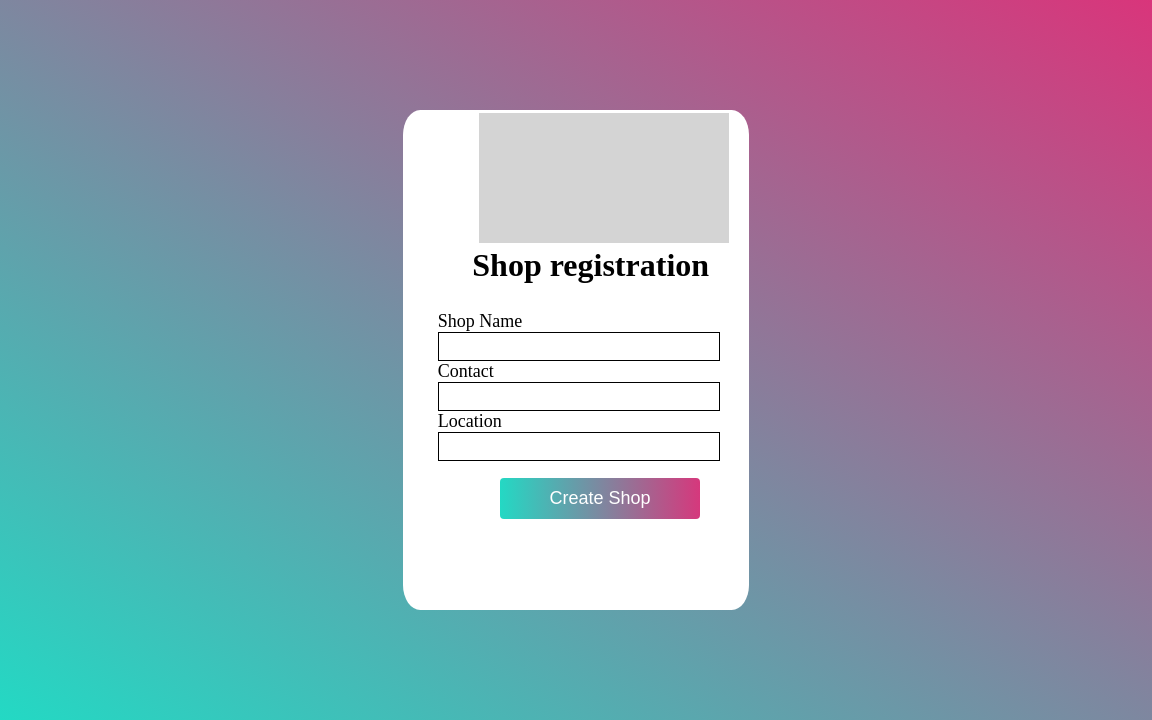
SellerForm Component › registers the shop and displays success message when all inputs are valid
Step 1. Type "Test Shop" into the field labelled "Shop Name" → {"x": 579, "y": 346}, box [438,332,720,361]
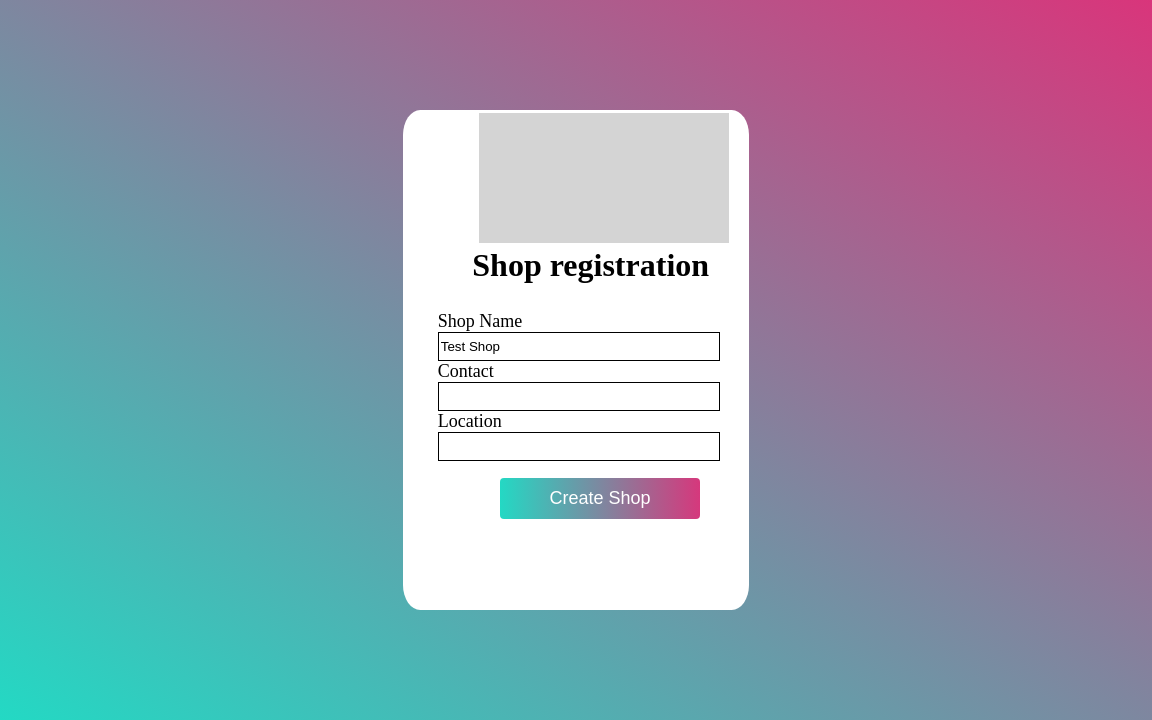
Step 2. Type "1234567890" into the field labelled "Contact" → {"x": 579, "y": 396}, box [438,382,720,411]
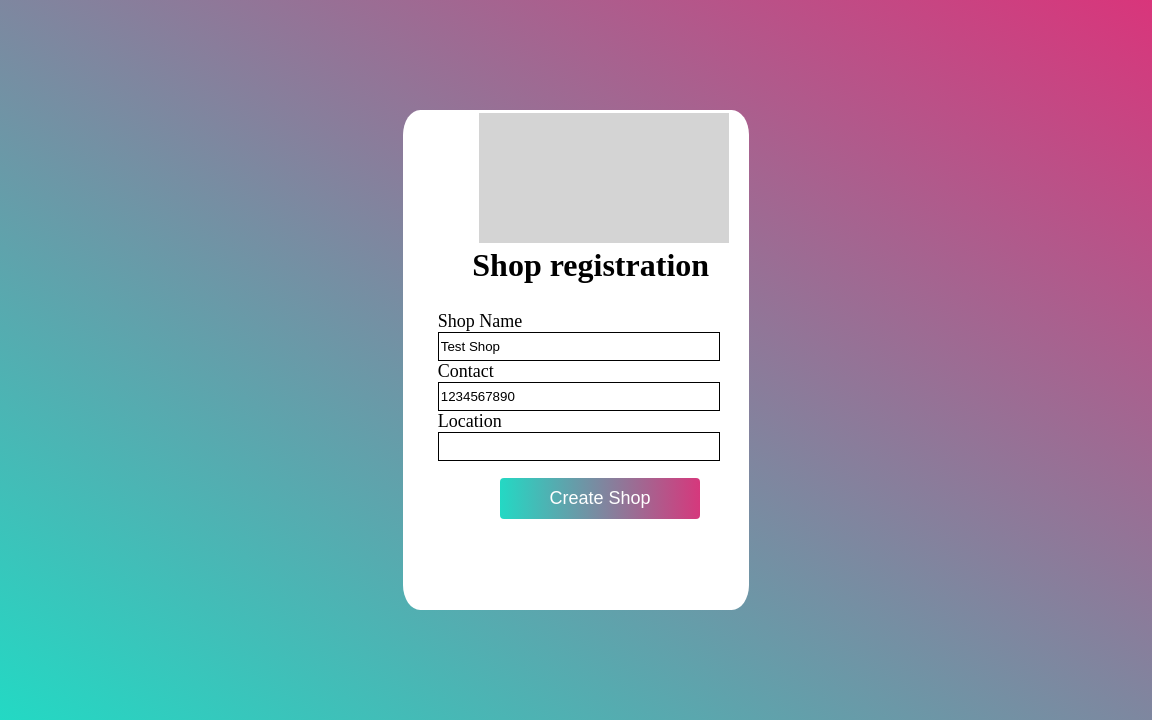
Step 3. Type "Test Location" into the field labelled "Location" → {"x": 579, "y": 446}, box [438,432,720,461]
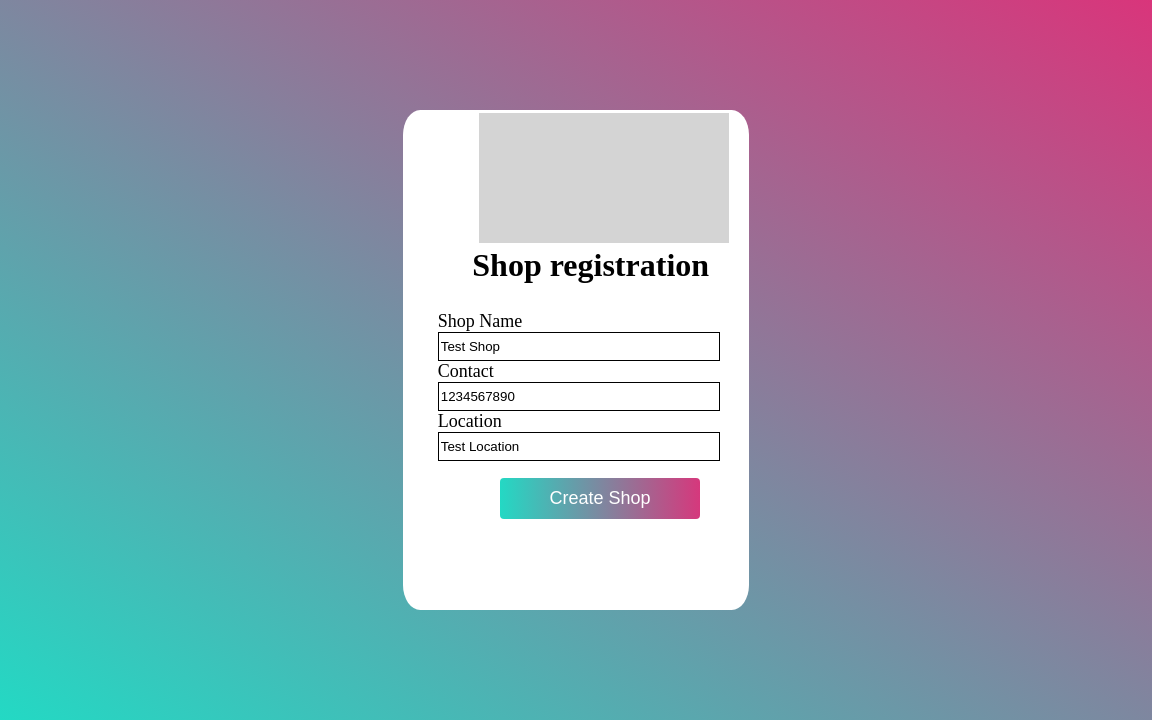
Step 4. Click the button with test id "signUpButton" → {"x": 600, "y": 499}, box [500,478,700,519]
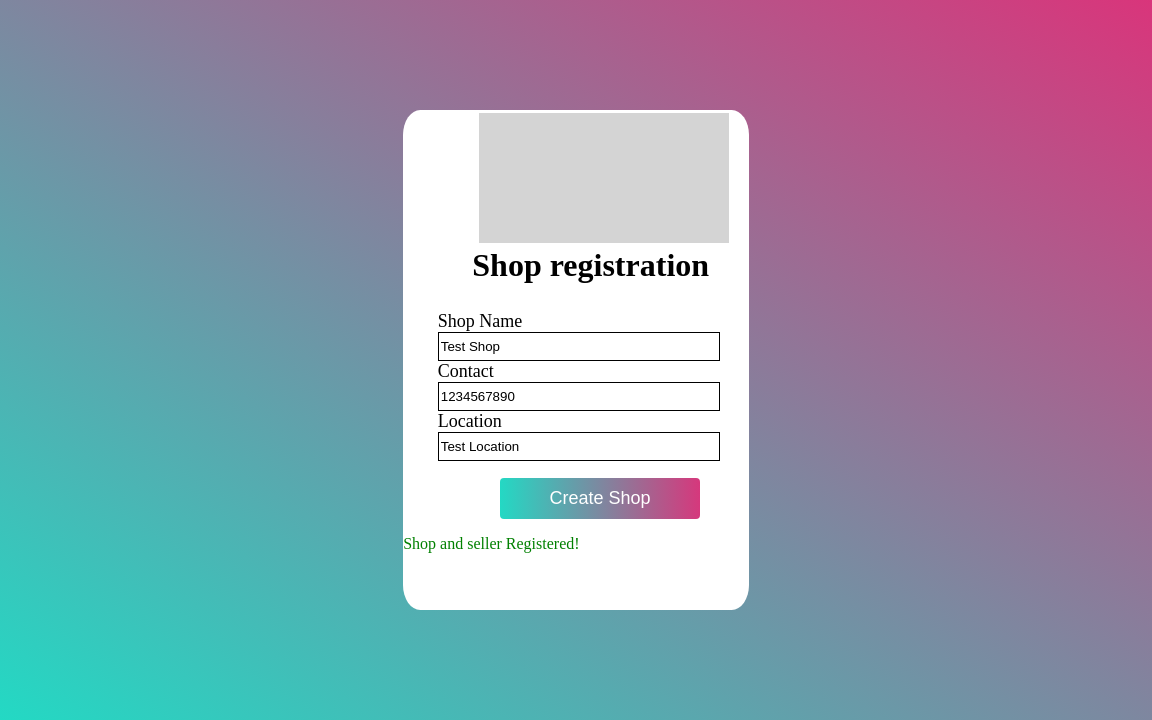
Check: the text with test id "successMessage" reads "Shop and seller Registered!", box [403,535,580,552]
